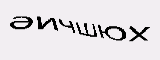И: (36, 13, 58, 30)
Х: (128, 21, 149, 44)
Ч: (58, 14, 76, 36)
Ш: (74, 19, 100, 38)
Ю: (97, 21, 125, 43)
Ә: (9, 14, 32, 31)
